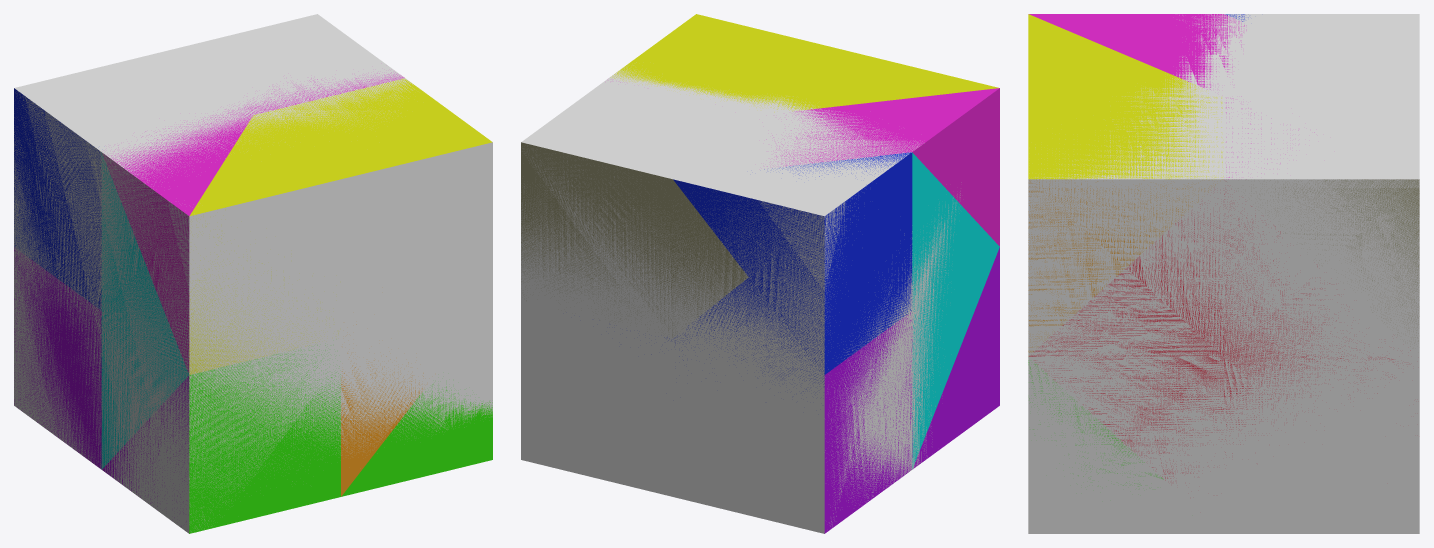
Rendered from TamGram_Simple.fbx.
The picture shows the model from 3 angles, left to right: view 1: azimuth 30°, elevation 25°; view 2: azimuth 150°, elevation 25°; view 3: azimuth 270°, elevation 25°; orthographic projection. The views are drawn at different scales.
Visible parts, largest first — view 1: Cube, Cube.028, Cube.027, Cube.030, Cube.024, Cube.031, Cube.029, Cube.026; view 2: Cube, Cube.031, Cube.032, Cube.027, Cube.030, Cube.024, Cube.029; view 3: Cube, Cube.027, Cube.025, Cube.024, Cube.032, Cube.026, Cube.028.
Part boxes in pixels (x1,y1,x2,y2): Cube: (14,14,492,533); Cube.028: (189,345,492,533); Cube.027: (189,78,492,374); Cube.030: (14,247,189,526); Cube.024: (102,72,404,374); Cube.031: (14,88,101,310); Cube.029: (101,153,188,469); Cube.026: (341,324,423,496); Cube: (521,62,961,533); Cube.031: (651,152,912,391); Cube.032: (521,142,748,337); Cube.027: (610,14,998,112); Cube.030: (824,247,999,533); Cube.024: (620,82,999,246); Cube.029: (912,152,999,468); Cube: (1028,14,1419,533); Cube.027: (1028,14,1223,179); Cube.025: (1029,194,1410,480); Cube.024: (1029,14,1314,179); Cube.032: (1238,179,1419,346); Cube.026: (1028,179,1215,355); Cube.028: (1028,360,1163,486).
Bounding box in the file's own units: 4 × 4 × 4.
